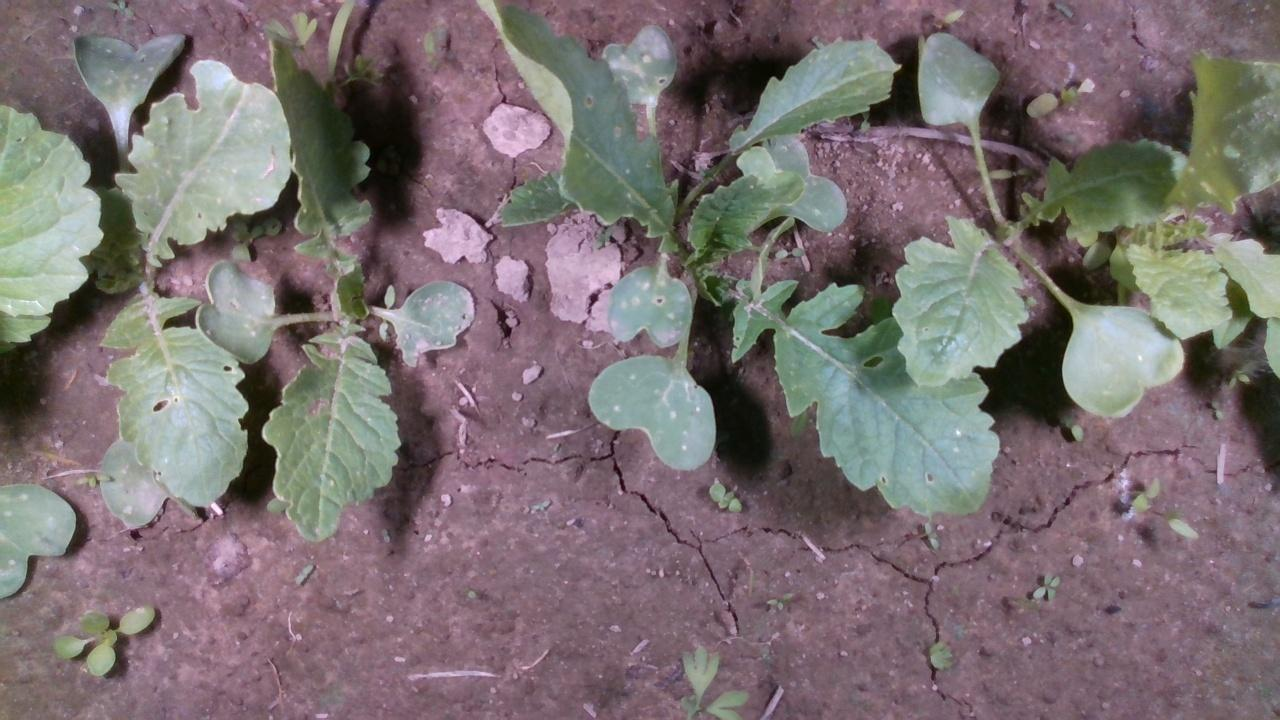weed: (704, 480, 743, 514)
